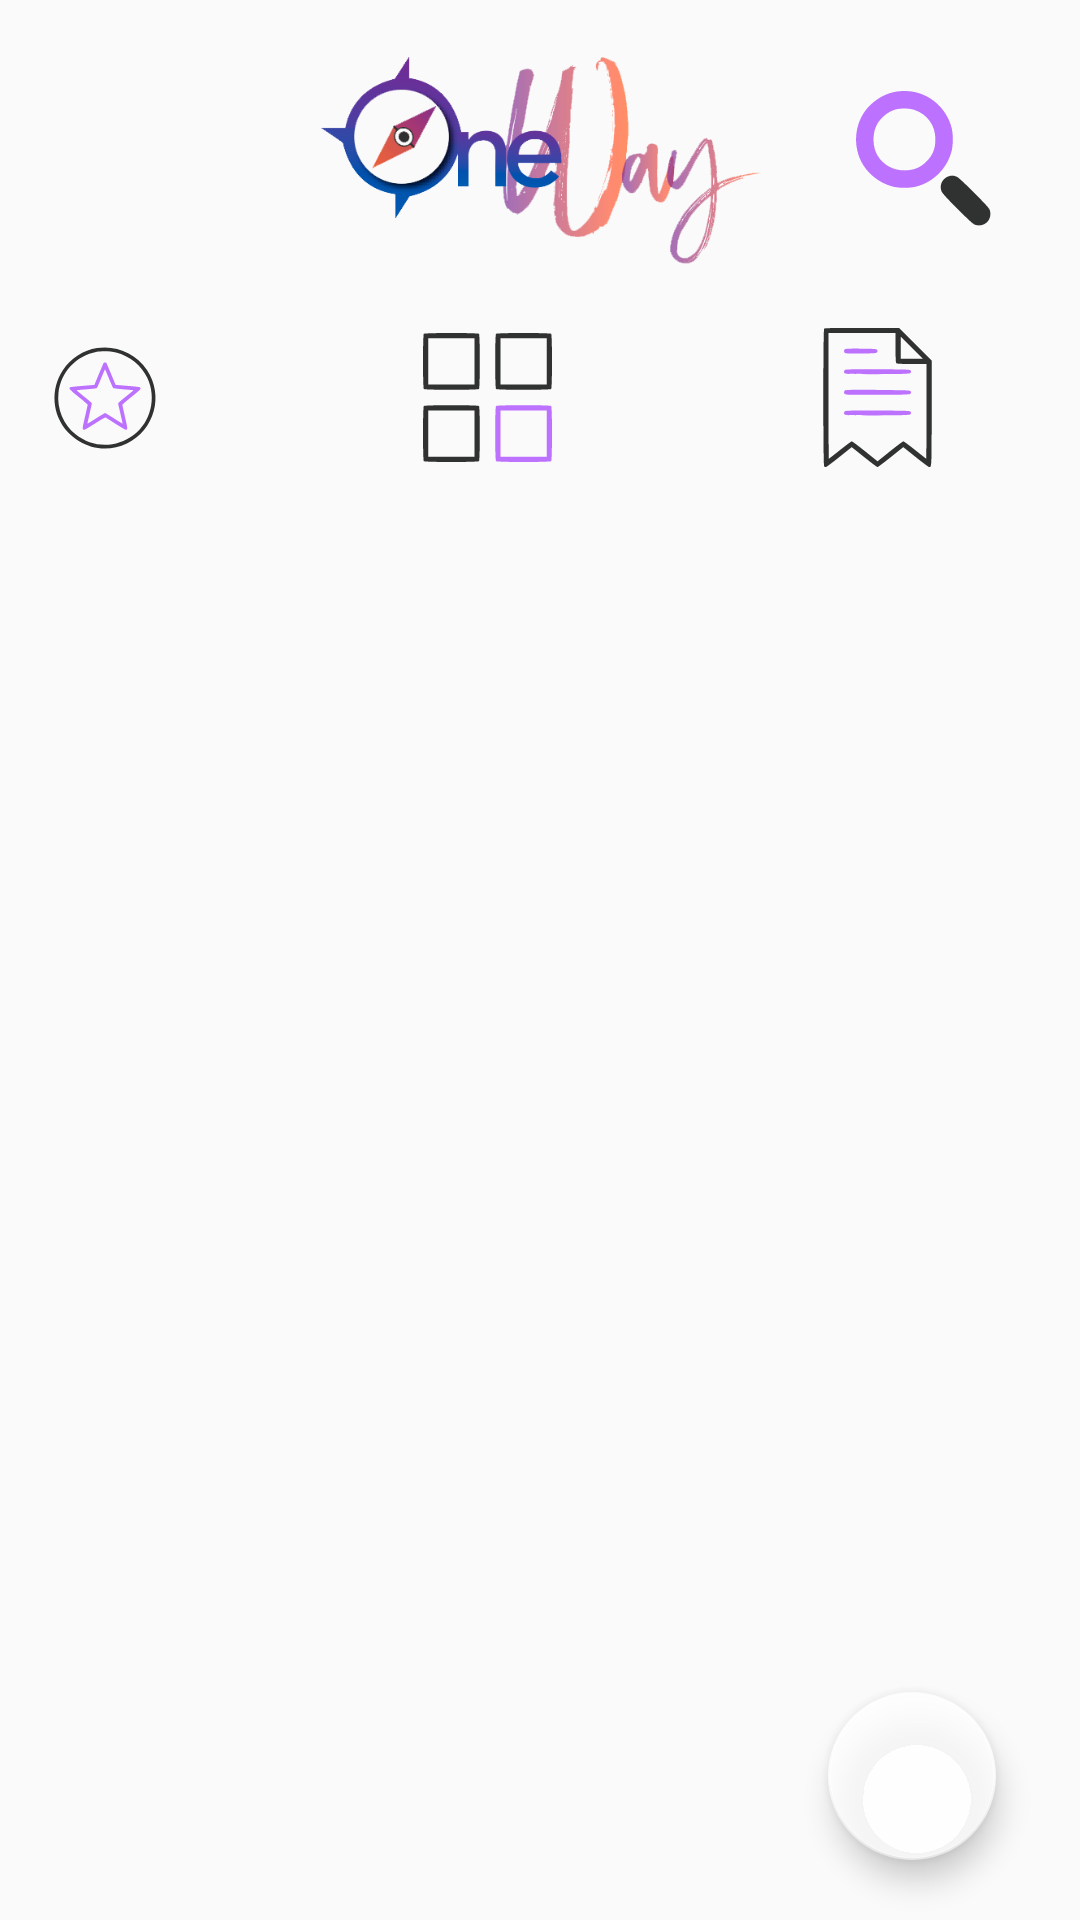

Icon click points for this 1080px x 1920px phone screenshot, format (x=x, y=y):
bill: (x=877, y=397)
category: (x=487, y=397)
search: (x=923, y=158)
star: (x=105, y=398)
